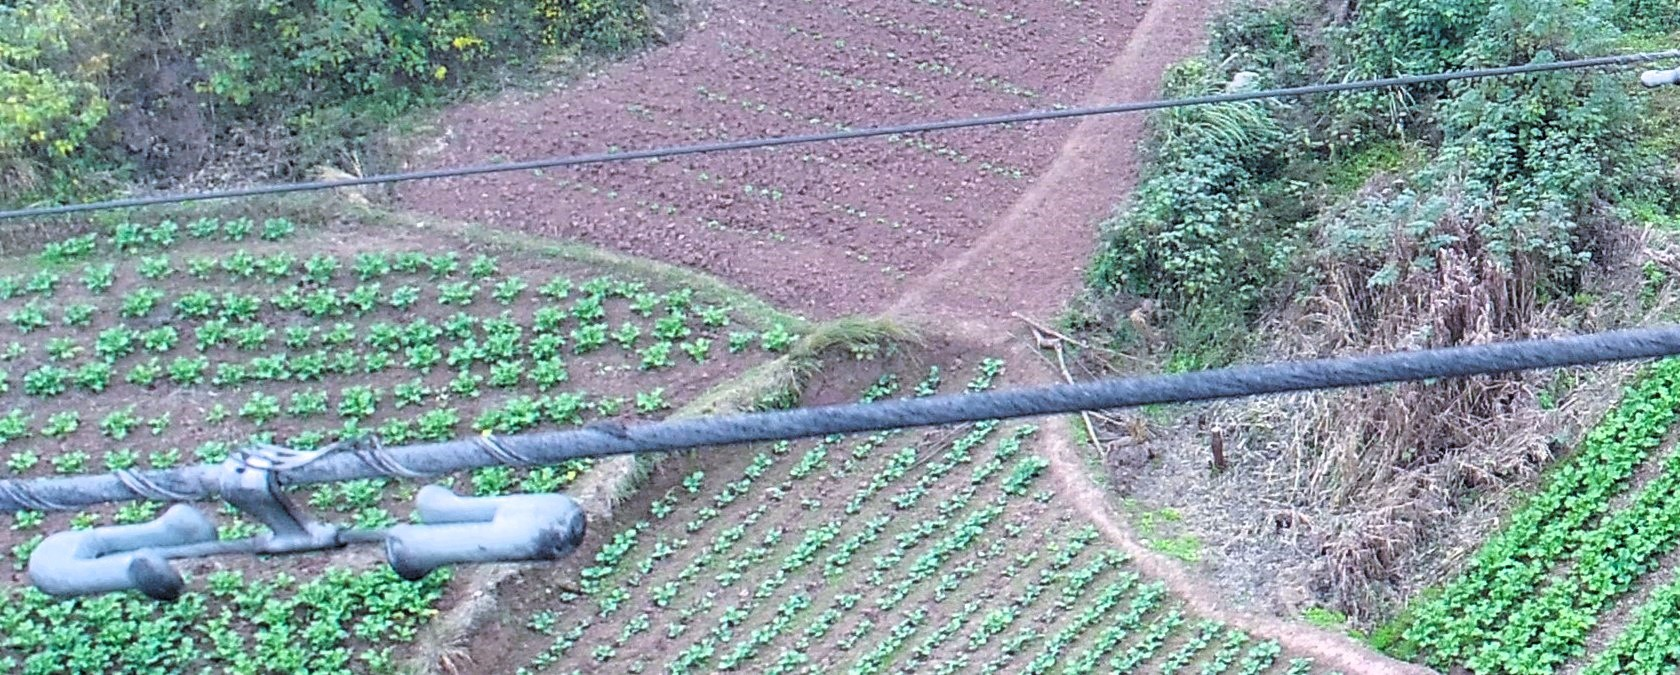Shockproof hammer: (19, 411, 597, 604)
